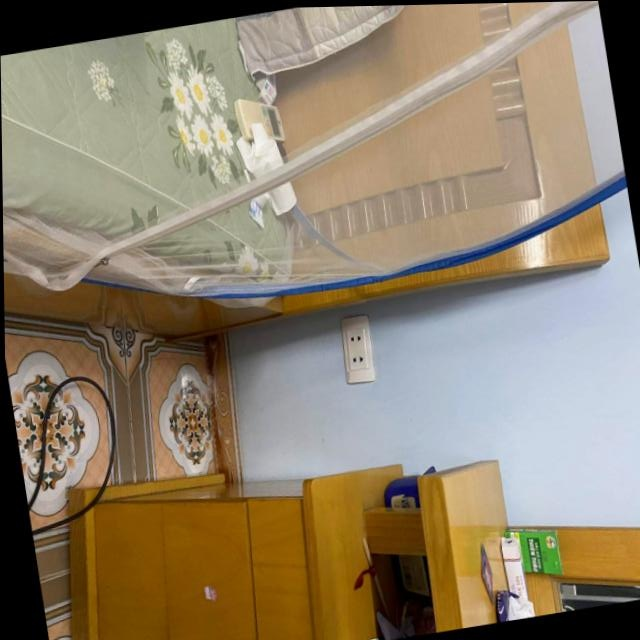outlet: (337, 313, 379, 386)
